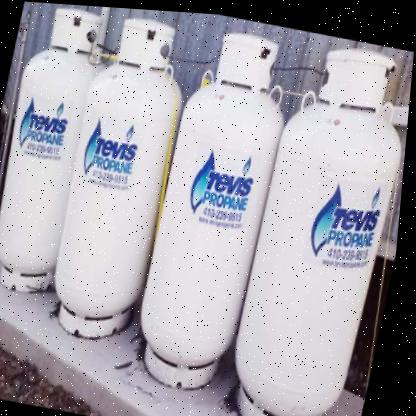gas-tank: (216, 21, 415, 415), (125, 11, 303, 415), (39, 5, 203, 355), (0, 0, 134, 329)
